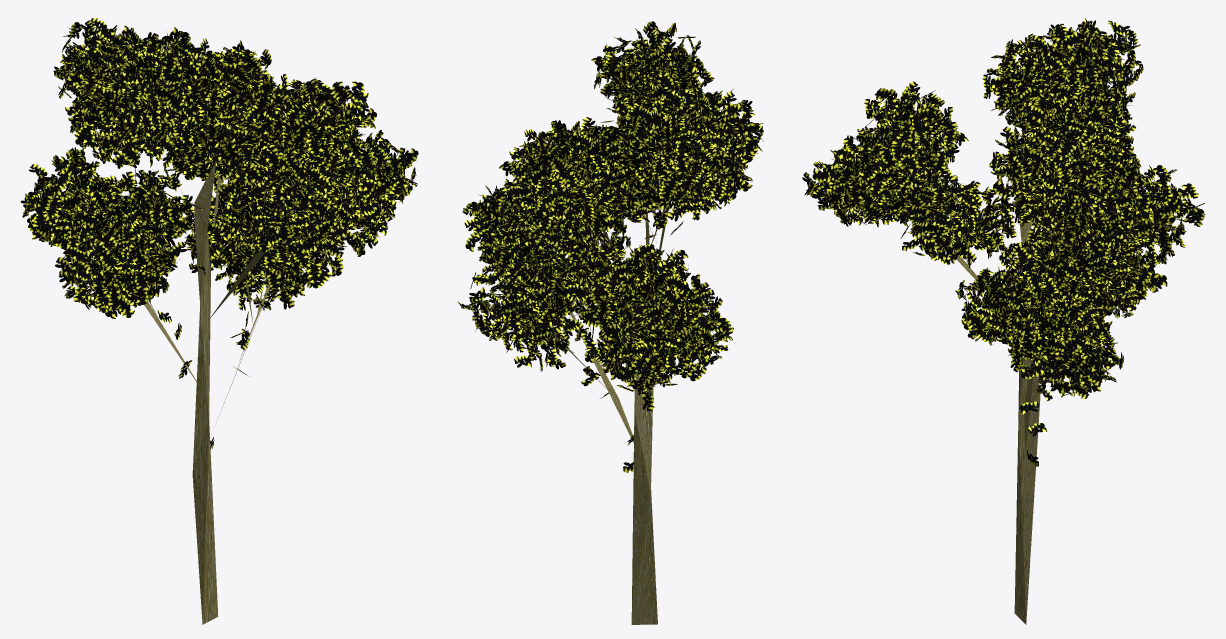
Rendered from cottonwood_river_v01_LOD1.fbx.
The picture shows the model from 3 angles, left to right: view 1: azimuth 30°, elevation 25°; view 2: azimuth 150°, elevation 25°; view 3: azimuth 270°, elevation 25°; orthographic projection. The views are drawn at different scales.
Parts seen in each view (by area): view 1: cottonwood_river_v01_LOD1; view 2: cottonwood_river_v01_LOD1; view 3: cottonwood_river_v01_LOD1.
Part boxes in pixels (x1,y1,x2,y2): cottonwood_river_v01_LOD1: (20,18,418,624); cottonwood_river_v01_LOD1: (458,21,763,624); cottonwood_river_v01_LOD1: (802,18,1205,624).
Bounding box in the file's own units: 1688 × 2008 × 3066.
Materials: 2 (2 with a texture image).
